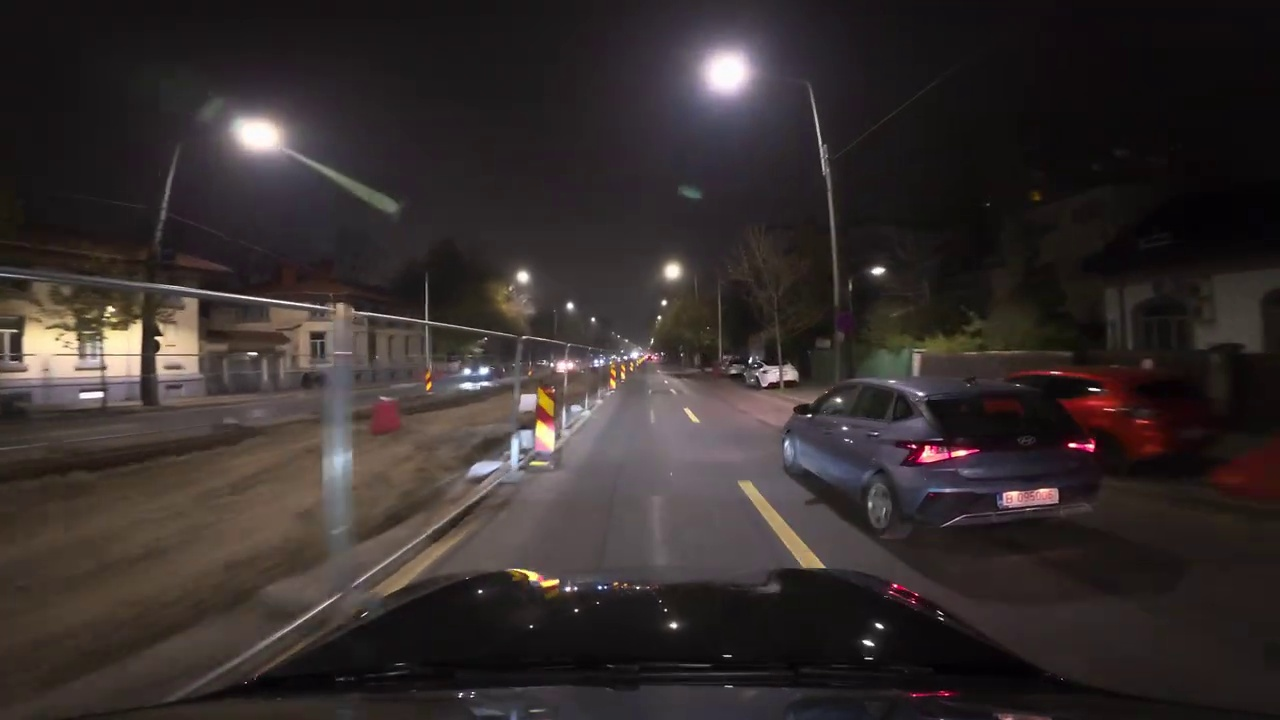acesa: (705, 51, 748, 92), (236, 119, 280, 152), (503, 269, 535, 313), (654, 256, 690, 290), (506, 266, 533, 299), (660, 259, 685, 283), (677, 183, 703, 204), (510, 267, 533, 289)
